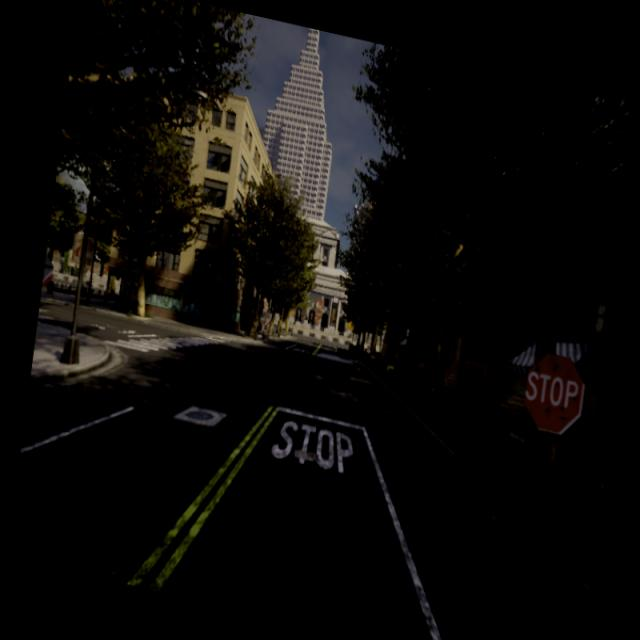stop sign: (521, 349, 586, 437)
